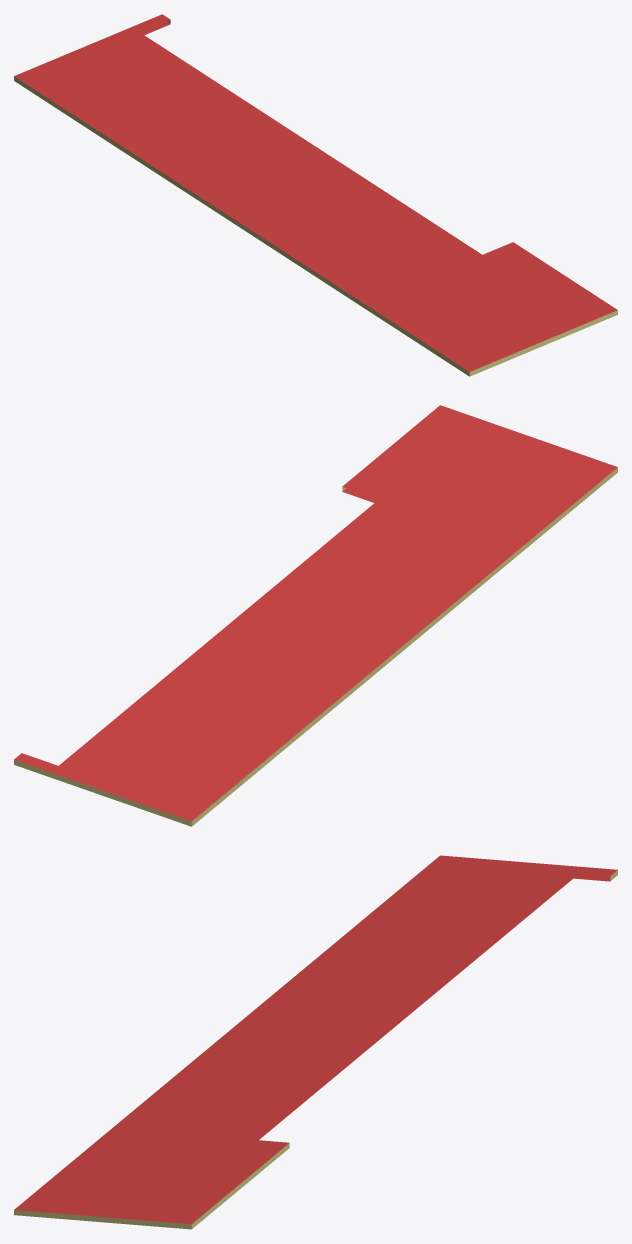
3 renders of one model, top to bottom at view 1: azimuth 30°, elevation 25°; view 2: azimuth 150°, elevation 25°; view 3: azimuth 330°, elevation 25°, orthographic. The views are drawn at different scales.
Bounding box in the file's own units: 4.27 × 16.28 × 0.551.
